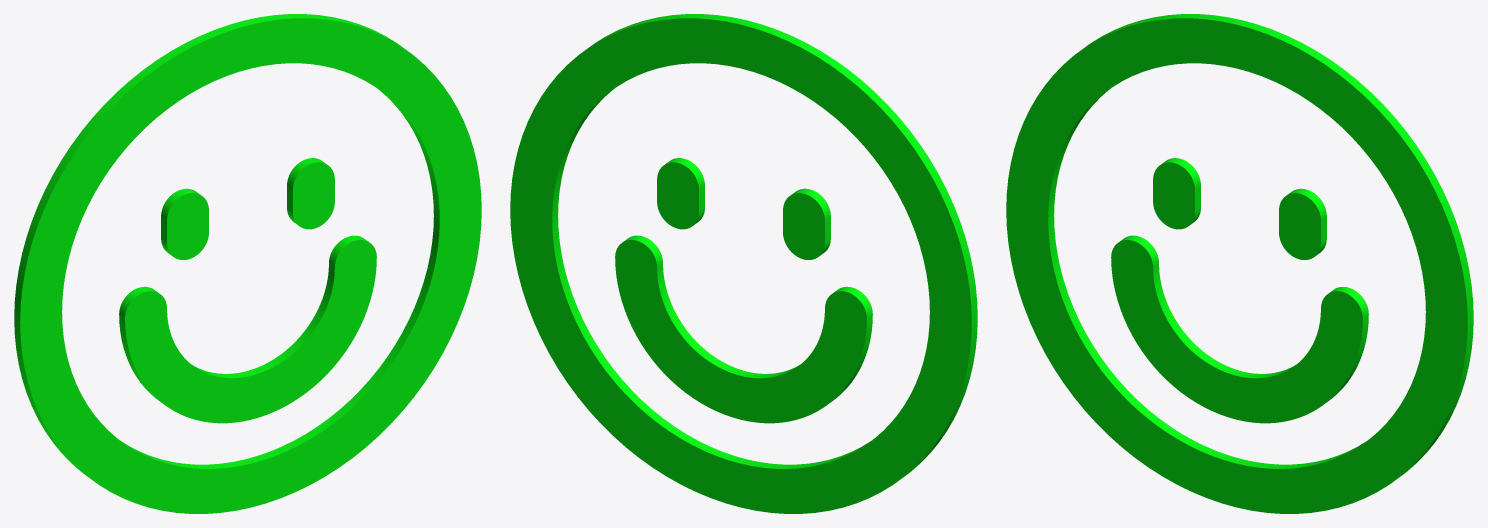
Rendered from smileFace.glb.
3 renders of one model, left to right at view 1: azimuth 30°, elevation 25°; view 2: azimuth 150°, elevation 25°; view 3: azimuth 330°, elevation 25°, orthographic.
Visible parts, largest first — view 1: Curve; view 2: Curve; view 3: Curve.
Boxes of the visible parts, x1=… form: Curve: x1=14, y1=14, x2=481, y2=513; Curve: x1=510, y1=14, x2=977, y2=513; Curve: x1=1006, y1=14, x2=1473, y2=513.
Size of the model in its own units: 7.02 by 7.01 by 0.1559.
